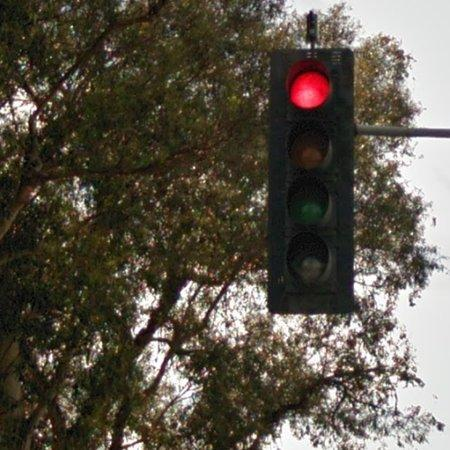traffic lights: (267, 50, 356, 315)
